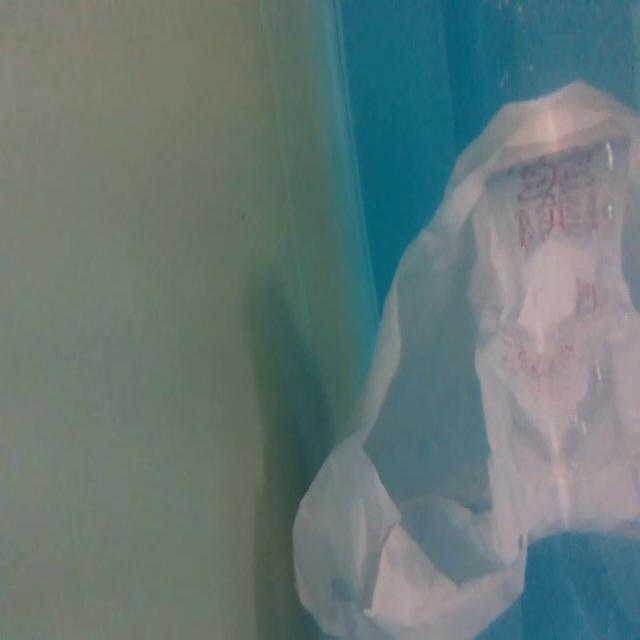plastic bags: (283, 81, 640, 640)
